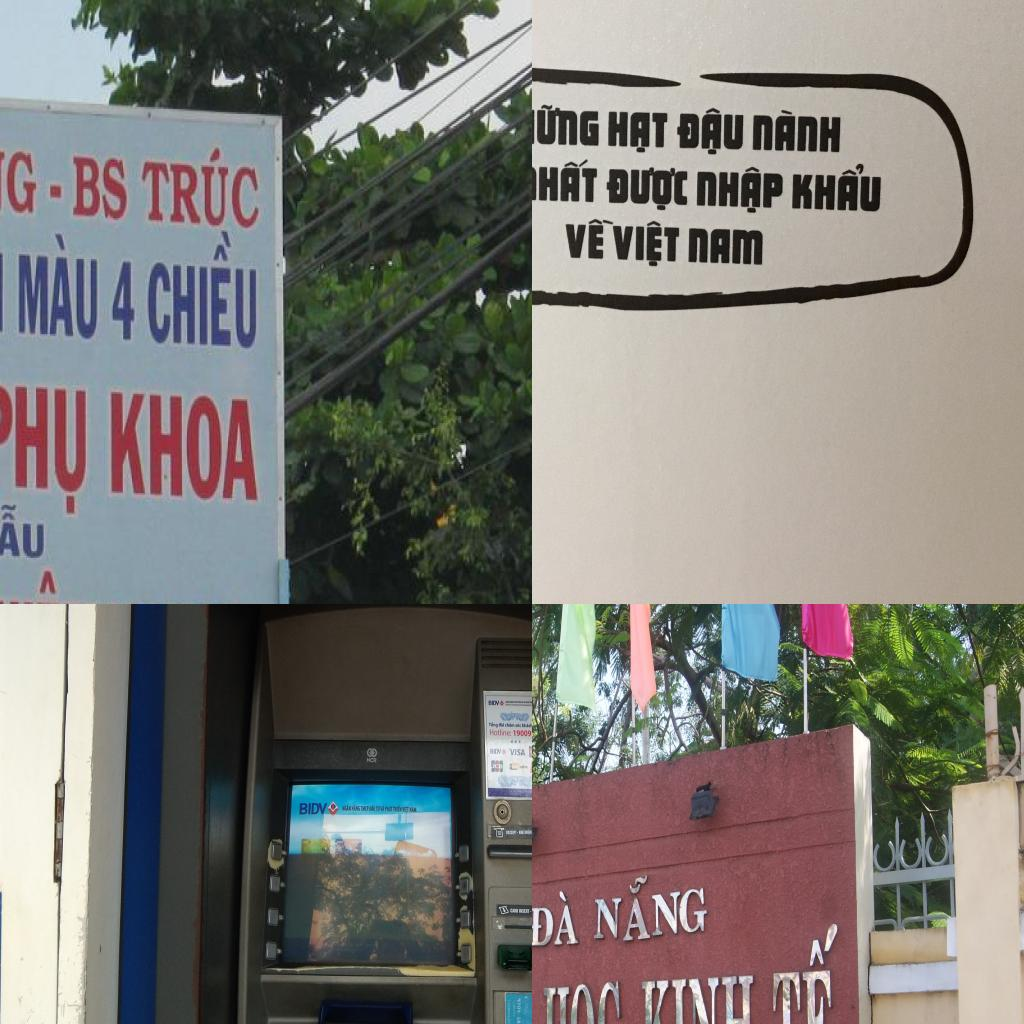text: (104, 384, 264, 506), (143, 228, 269, 360), (0, 378, 92, 520), (140, 138, 270, 233), (13, 228, 105, 348), (590, 867, 707, 942), (639, 971, 756, 1024), (791, 162, 884, 215), (695, 164, 784, 216), (0, 100, 38, 219), (71, 152, 132, 226), (752, 106, 842, 156), (605, 164, 690, 214), (532, 96, 600, 151), (539, 980, 623, 1024), (676, 106, 746, 158), (611, 219, 683, 269), (0, 496, 52, 564), (532, 157, 599, 206), (105, 250, 139, 344), (605, 108, 669, 156), (532, 890, 579, 952), (562, 218, 616, 266), (298, 802, 328, 816), (489, 728, 512, 737), (508, 748, 526, 757), (513, 729, 532, 737), (516, 997, 521, 1024), (490, 748, 502, 755), (342, 804, 352, 812), (393, 804, 402, 812), (488, 700, 500, 706), (492, 764, 504, 770), (518, 908, 530, 914), (506, 830, 517, 836), (368, 804, 376, 812), (410, 806, 418, 814), (402, 805, 409, 814), (488, 722, 498, 728), (505, 722, 515, 728), (522, 722, 532, 728), (385, 805, 393, 812), (360, 805, 369, 811), (352, 805, 360, 811), (524, 830, 532, 836), (510, 908, 518, 914), (498, 722, 505, 728), (519, 765, 528, 769), (518, 829, 524, 835), (515, 723, 522, 728), (376, 805, 380, 812), (380, 805, 384, 812)
